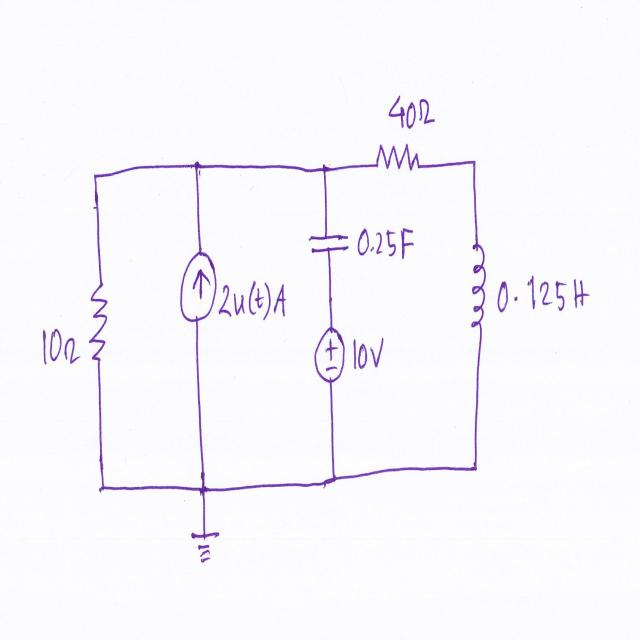capacitor: (308, 226, 349, 262)
current_source: (175, 246, 220, 330)
ground: (184, 530, 225, 571)
inductor: (467, 233, 488, 339)
resistor: (86, 266, 110, 379), (371, 137, 422, 179)
voltage_source: (314, 324, 349, 391)
